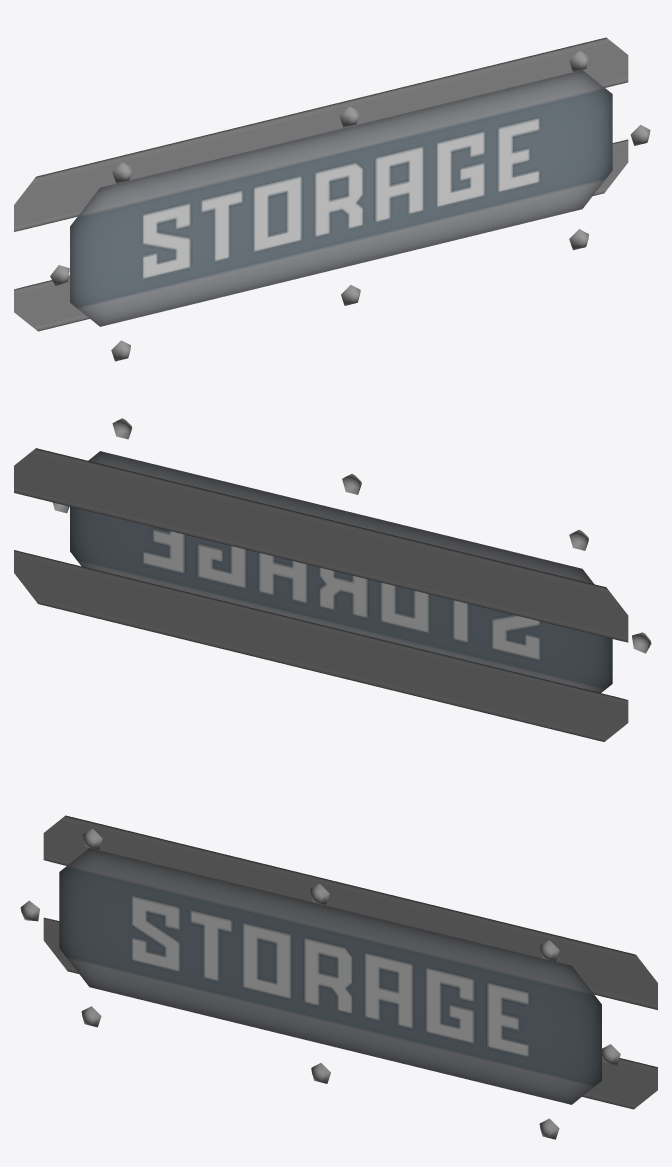
The model's file is obj_decor_sign_storage.fbx.
3 renders of one model, top to bottom at view 1: azimuth 30°, elevation 25°; view 2: azimuth 150°, elevation 25°; view 3: azimuth 330°, elevation 25°, orthographic.
Parts seen in each view (by area): view 1: obj_decor_sign_storage; view 2: obj_decor_sign_storage; view 3: obj_decor_sign_storage.
Boxes of the visible parts, box(x1,y1,x2,y2) form: obj_decor_sign_storage: box(14, 37, 650, 361); obj_decor_sign_storage: box(14, 418, 651, 741); obj_decor_sign_storage: box(20, 815, 657, 1139).
Size of the model in its own units: 6 by 2 by 0.5823.
